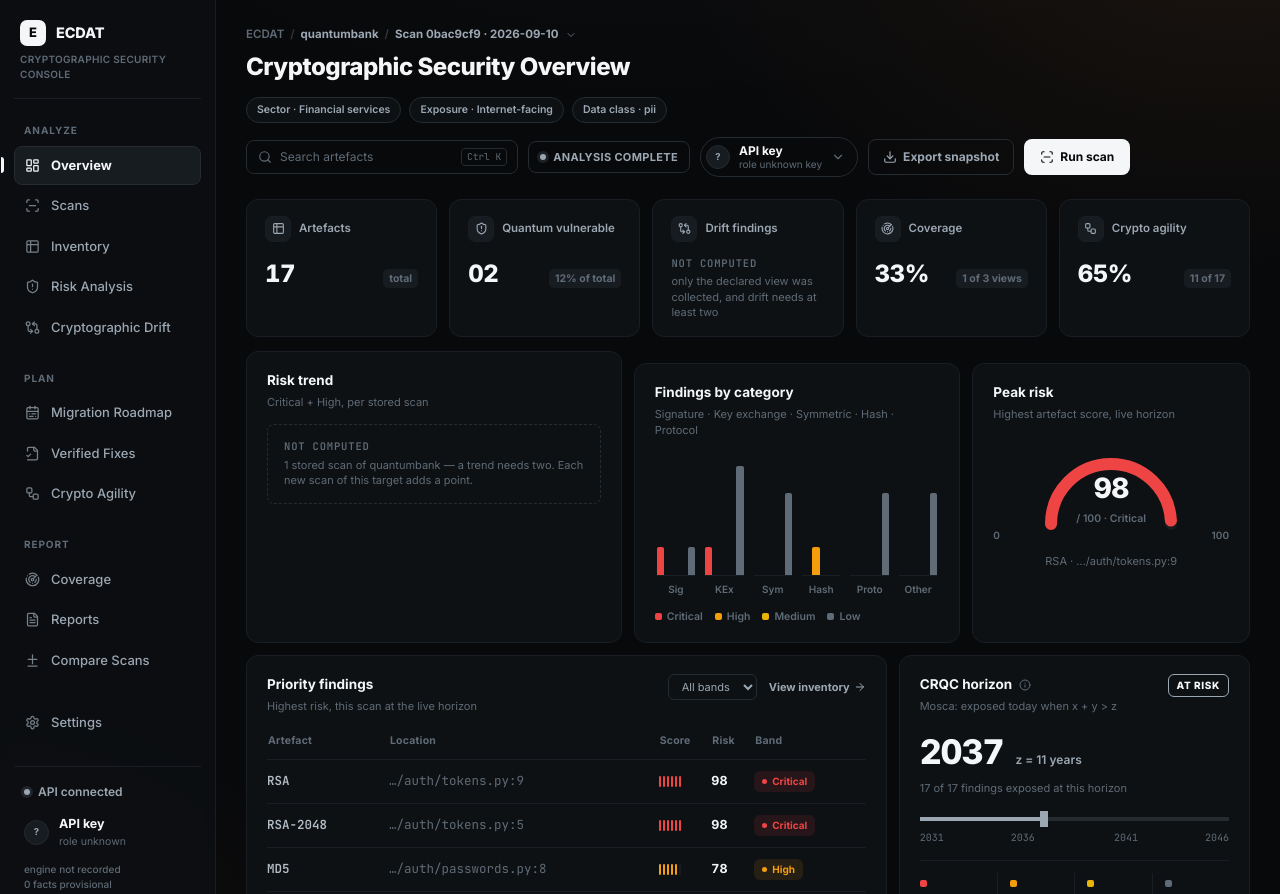
Test case: the priority table › filters by band, and says so when a band is empty at this horizon
Select "High" in the dropdown named "Priority band" at coordinates (712, 687), box x1=668 y1=674 x2=757 y2=700
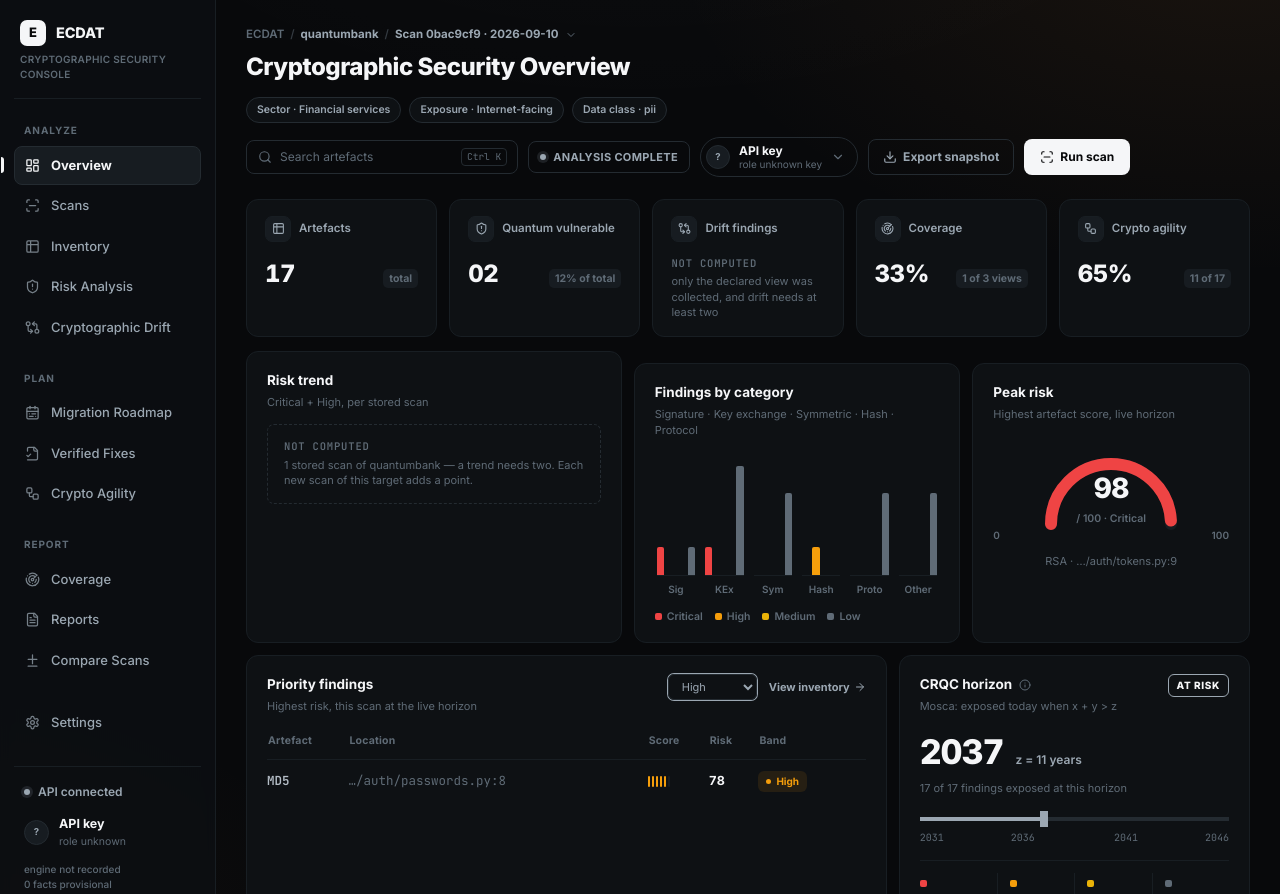
Expected: the row with test id "priority-row" shows "MD5", x1=267 y1=772 x2=290 y2=789
Select "Medium" in the dropdown named "Priority band" at coordinates (712, 687), box x1=668 y1=674 x2=757 y2=700
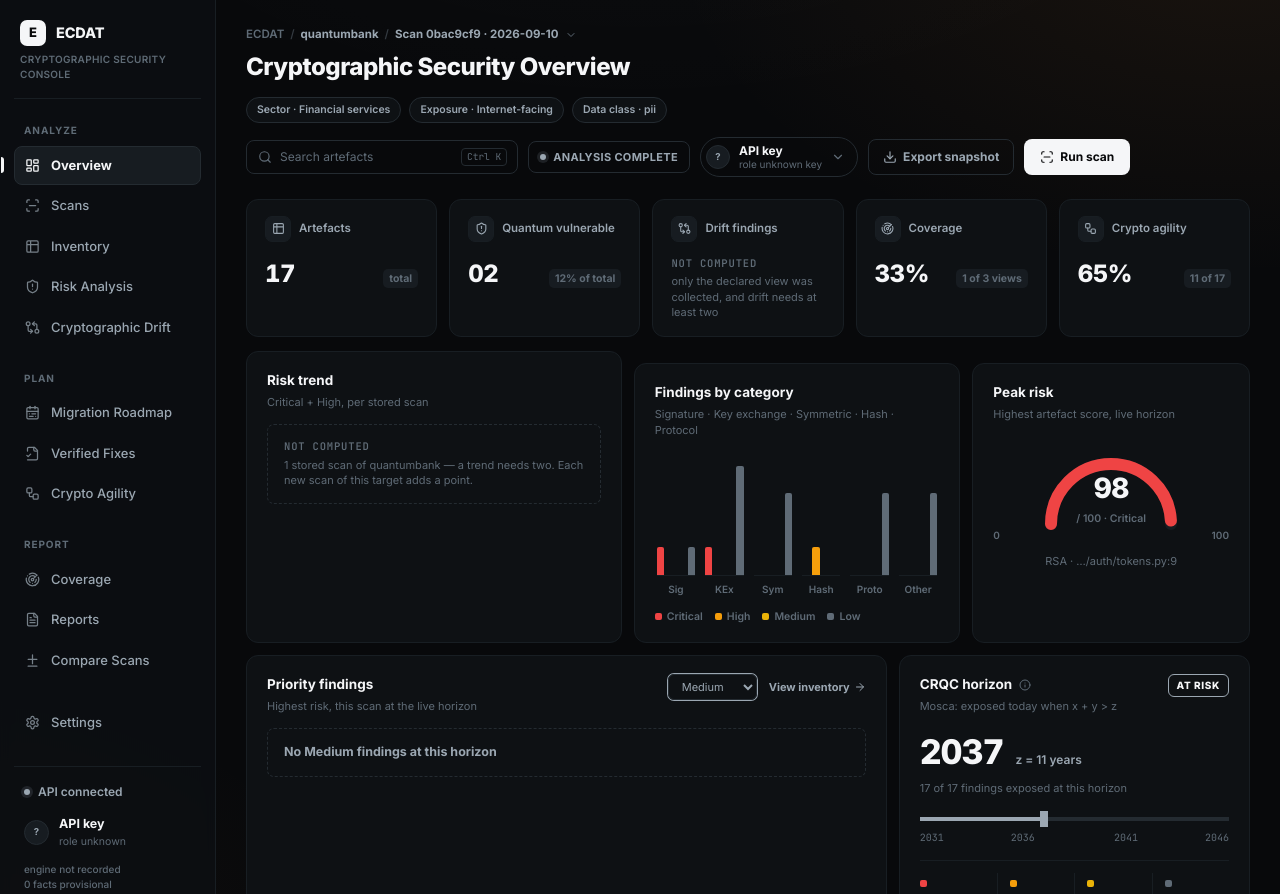
Now no rows with test id "priority-row" are shown
Now the element with test id "priority-empty" shows "No Medium findings", box x1=284 y1=744 x2=497 y2=759
